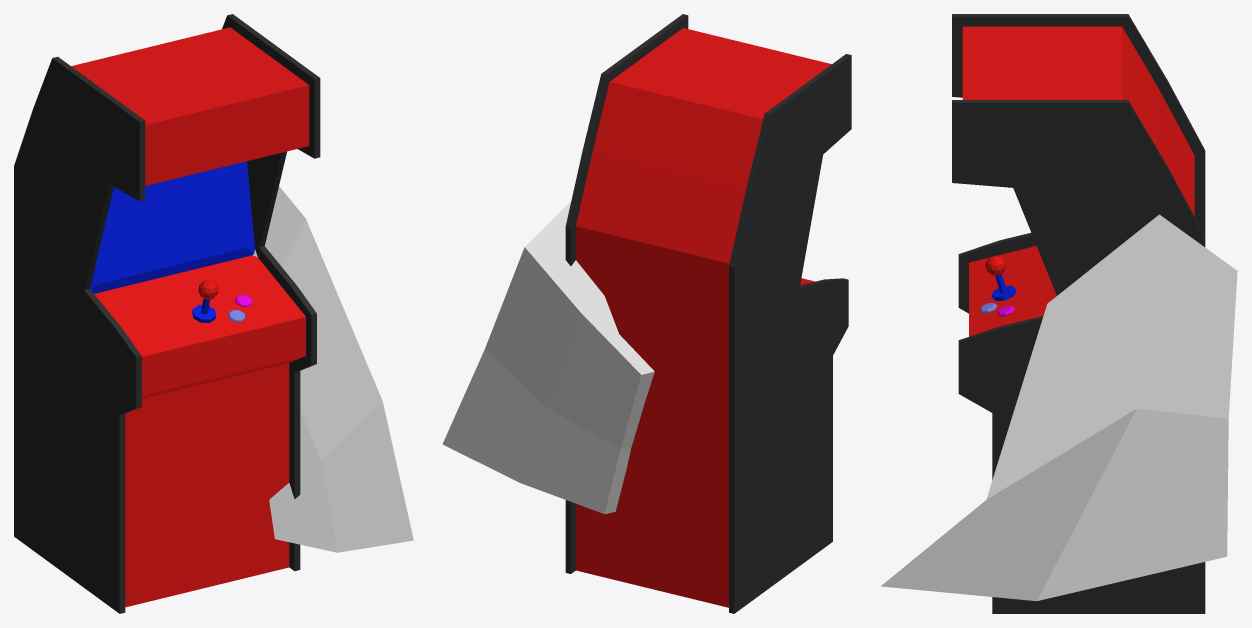
The model's file is Arcade Machine Hole.fbx.
3 views of the same model, side by side, from view 1: azimuth 30°, elevation 25°; view 2: azimuth 150°, elevation 25°; view 3: azimuth 270°, elevation 25° (orthographic). The views are drawn at different scales.
Parts seen in each view (by area): view 1: Arcade Machine, Cube, Arcade Machine.001; view 2: Arcade Machine, Cube; view 3: Cube, Arcade Machine, Arcade Machine.001.
Boxes of the visible parts, <box> form: Arcade Machine: <box>14,14,320,613</box>; Cube: <box>253,186,413,552</box>; Arcade Machine.001: <box>192,279,218,322</box>; Arcade Machine: <box>565,14,851,613</box>; Cube: <box>442,201,654,514</box>; Cube: <box>881,214,1237,601</box>; Arcade Machine: <box>952,14,1205,613</box>; Arcade Machine.001: <box>985,255,1016,300</box>.
Bounding box in the file's own units: 242 × 389 × 246.
